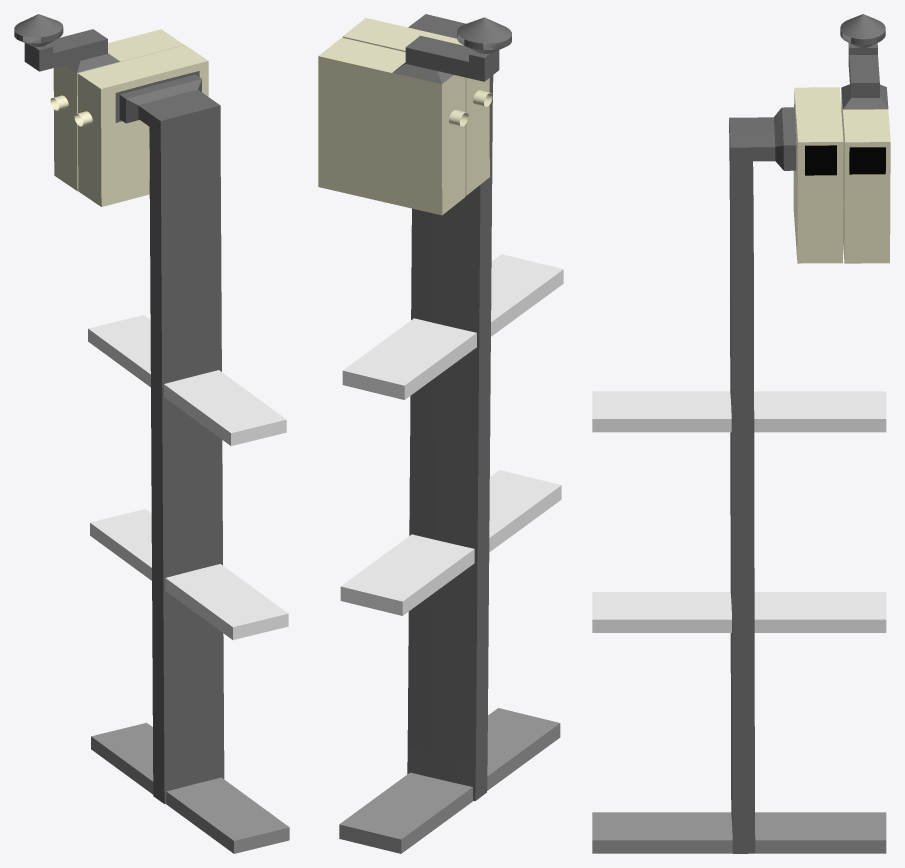
File: ceilingCoolers.glb
The picture shows the model from 3 angles, left to right: view 1: azimuth 30°, elevation 25°; view 2: azimuth 150°, elevation 25°; view 3: azimuth 270°, elevation 25°; orthographic projection. The views are drawn at different scales.
Parts seen in each view (by area): view 1: LeftCeilingCooler, RightCeilingHeater; view 2: LeftCeilingCooler, RightCeilingHeater; view 3: LeftCeilingCooler, RightCeilingHeater.
Boxes of the visible parts, x1,y1,x2,y2 form: LeftCeilingCooler: (74, 45, 289, 853); RightCeilingHeater: (14, 14, 184, 191); LeftCeilingCooler: (339, 14, 563, 853); RightCeilingHeater: (318, 17, 511, 215); LeftCeilingCooler: (592, 87, 886, 853); RightCeilingHeater: (840, 14, 890, 263).
Bounding box in the file's own units: 2.6 × 11.71 × 4.06.
